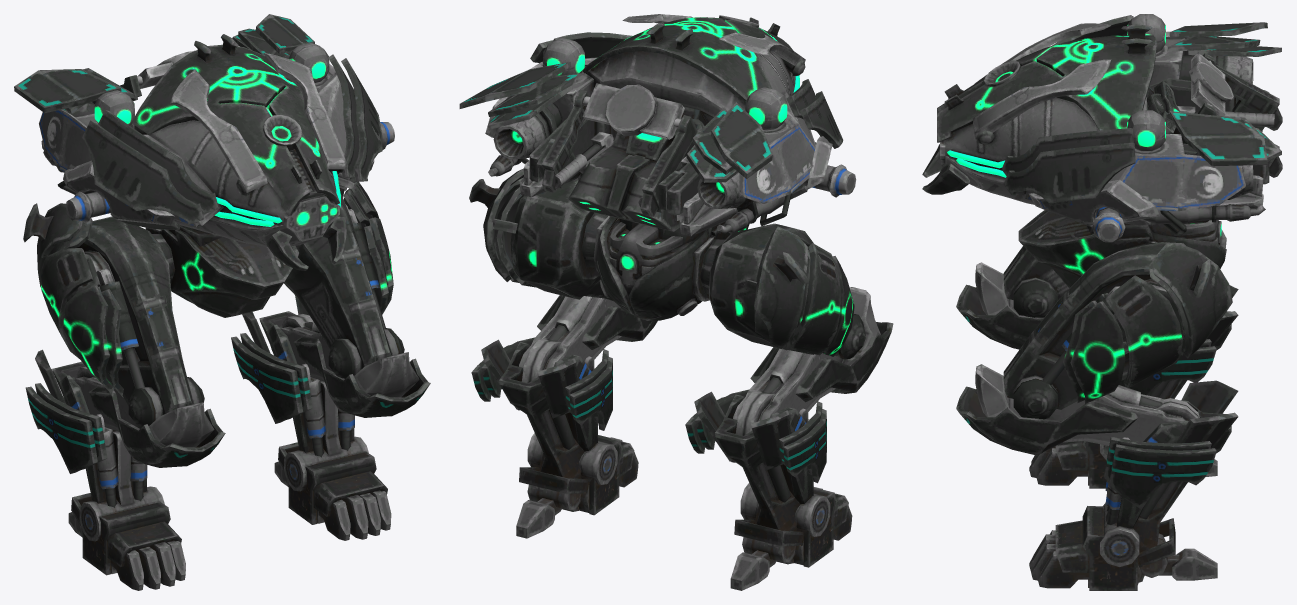
The model's file is model-mecha-cryptic-fenrir.glb.
The picture shows the model from 3 angles, left to right: view 1: azimuth 30°, elevation 25°; view 2: azimuth 150°, elevation 25°; view 3: azimuth 270°, elevation 25°; orthographic projection. The views are drawn at different scales.
Parts seen in each view (by area): view 1: Mesh_0; view 2: Mesh_0; view 3: Mesh_0.
Boxes of the visible parts, box(x1,y1,x2,y2) form: Mesh_0: box(14, 14, 430, 590); Mesh_0: box(459, 14, 893, 590); Mesh_0: box(922, 14, 1282, 590).
Size of the model in its own units: 11.96 by 16.99 by 11.25.
1 material, 1 textured.
